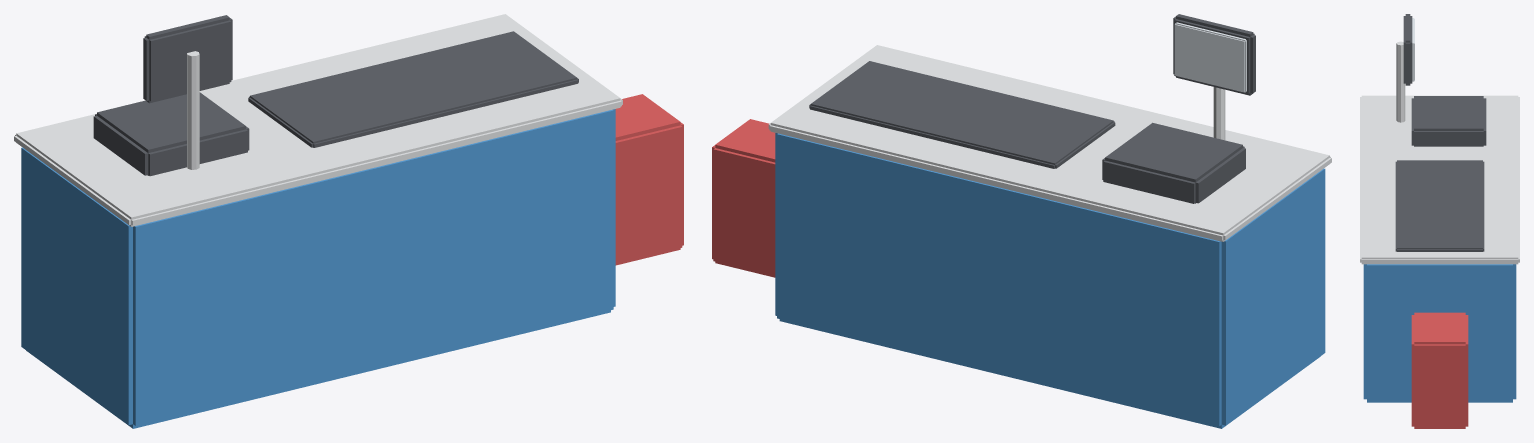
File: Market_KasaBandi.fbx
3 views of the same model, side by side, from view 1: azimuth 30°, elevation 25°; view 2: azimuth 150°, elevation 25°; view 3: azimuth 270°, elevation 25° (orthographic). The views are drawn at different scales.
Parts seen in each view (by area): view 1: Market_KasaBandi; view 2: Market_KasaBandi; view 3: Market_KasaBandi.
Part boxes in pixels (box(x1,y1,x2,y2)): Market_KasaBandi: box(14, 14, 683, 428); Market_KasaBandi: box(712, 14, 1331, 428); Market_KasaBandi: box(1360, 14, 1519, 428).
Bounding box in the file's own units: 2.62 × 1.52 × 0.9.
